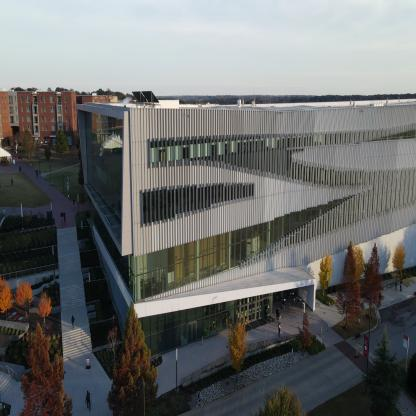Hunt Library: (60, 71, 415, 367)
